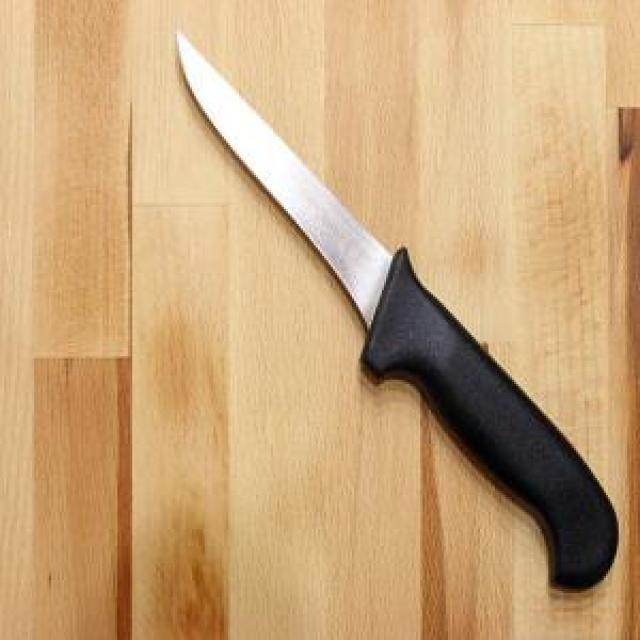knife: (170, 28, 620, 593)
